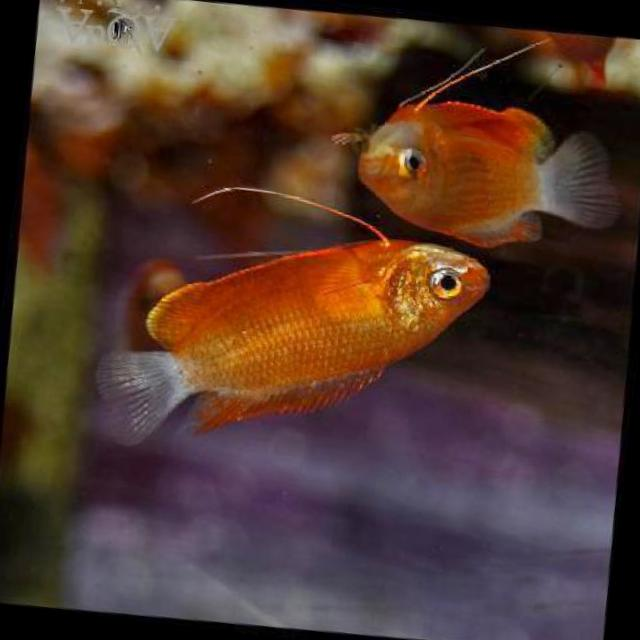Gourami: (86, 217, 486, 495), (346, 88, 615, 263)
